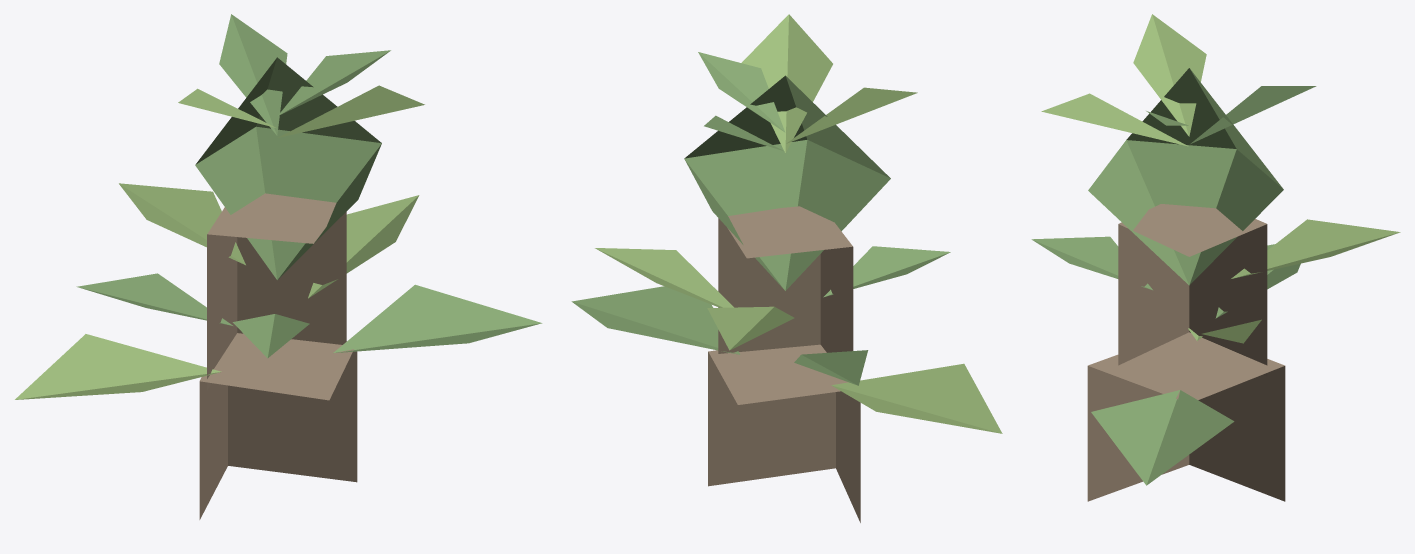
Rendered from cao.yangmao@seedling__spring.glb.
The picture shows the model from 3 angles, left to right: view 1: azimuth 30°, elevation 25°; view 2: azimuth 150°, elevation 25°; view 3: azimuth 270°, elevation 25°; orthographic projection. The views are drawn at different scales.
Parts seen in each view (by area): view 1: cao.yangmao@seedling__spring; view 2: cao.yangmao@seedling__spring; view 3: cao.yangmao@seedling__spring.
Part boxes in pixels (bbox=[...]): cao.yangmao@seedling__spring: bbox=[15, 14, 542, 519]; cao.yangmao@seedling__spring: bbox=[571, 14, 1002, 522]; cao.yangmao@seedling__spring: bbox=[1031, 14, 1400, 501].
Bounding box in the file's own units: 0.0907 × 0.079 × 0.061.
